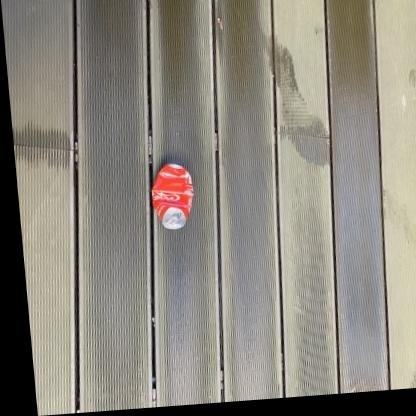trash: (152, 163, 192, 229)
